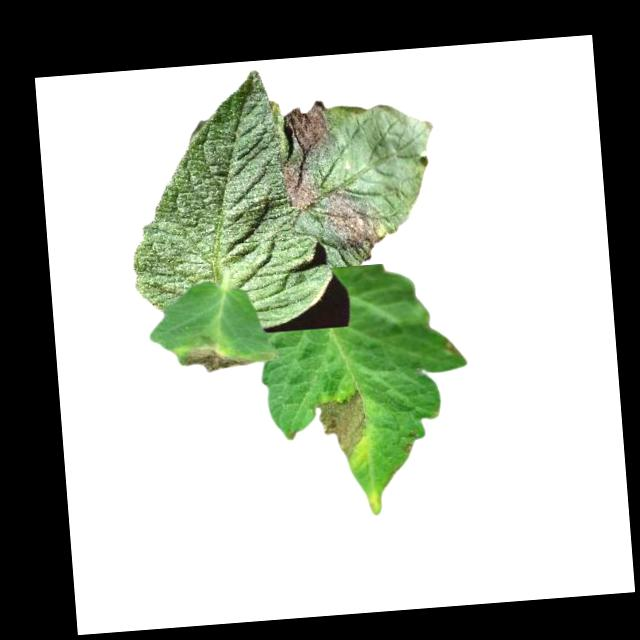Late_blight: (321, 183, 392, 265), (316, 384, 370, 460), (283, 101, 335, 159), (183, 341, 255, 376), (282, 159, 323, 212)
healthy: (118, 61, 336, 338)
